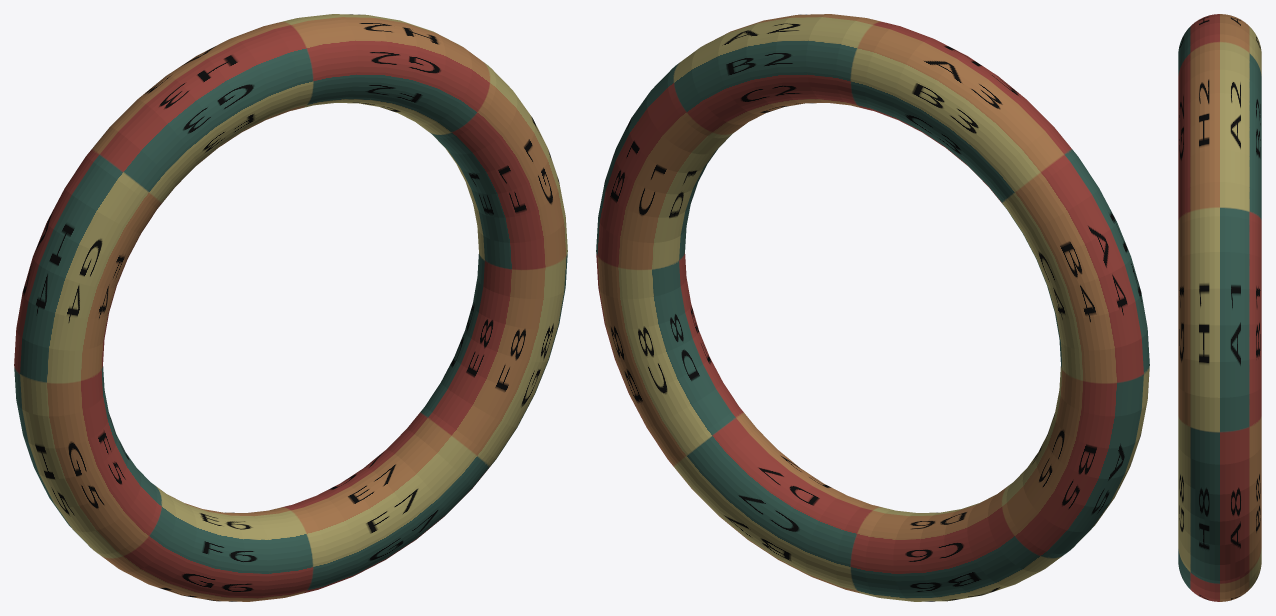
Rendered from texture_torus_R20_r7.glb.
The picture shows the model from 3 angles, left to right: view 1: azimuth 30°, elevation 25°; view 2: azimuth 150°, elevation 25°; view 3: azimuth 270°, elevation 25°; orthographic projection. The views are drawn at different scales.
Parts seen in each view (by area): view 1: world; view 2: world; view 3: world.
Part boxes in pixels (x1,y1,x2,y2): world: (14, 14, 567, 601); world: (596, 14, 1149, 601); world: (1178, 14, 1261, 601).
Bounding box in the file's own units: 27.2 × 27.15 × 3.86.
Materials: 1 (1 with a texture image).
